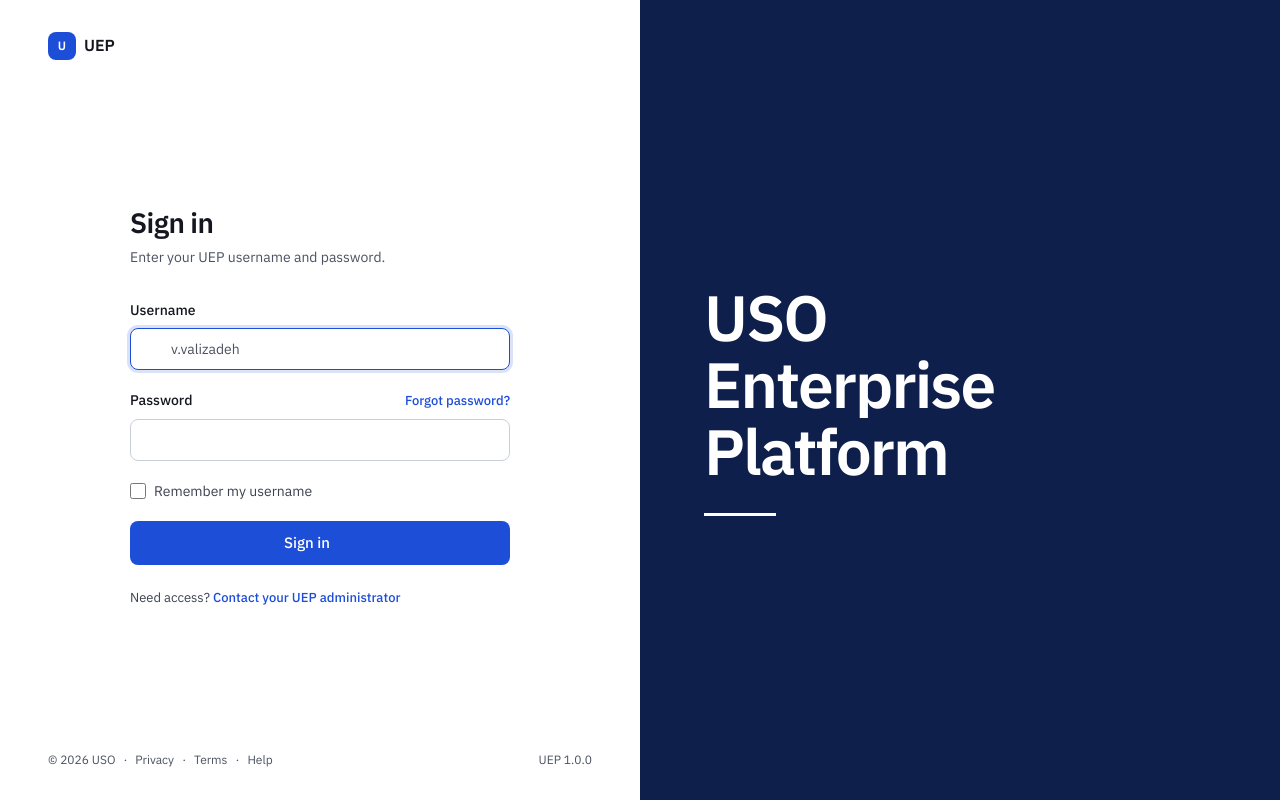
Test case: refusals › gives one generic message for wrong credentials and clears the password
Type "sara" into the field labelled "Username". click: (320, 349)
box: [130, 328, 510, 370]
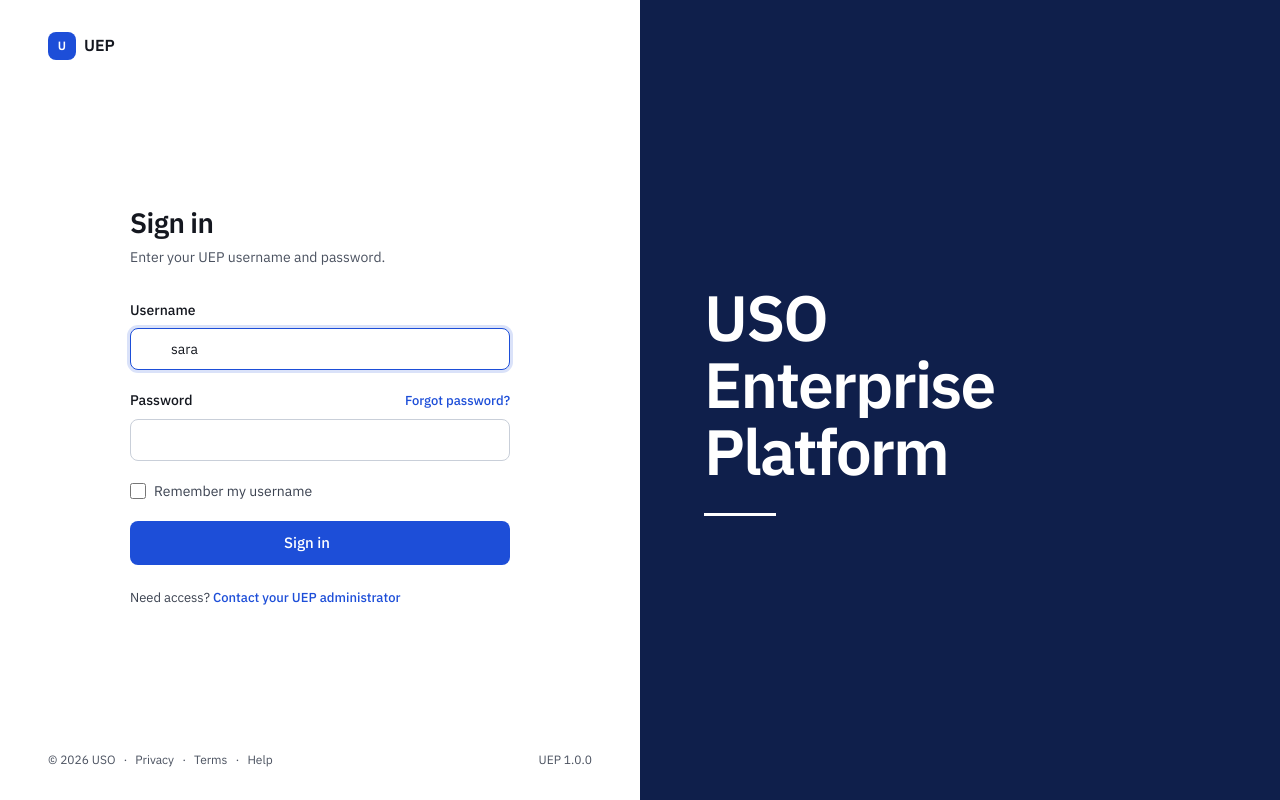
Type "pw" into the password field labelled "Password". click: (320, 440)
box: [130, 419, 510, 461]
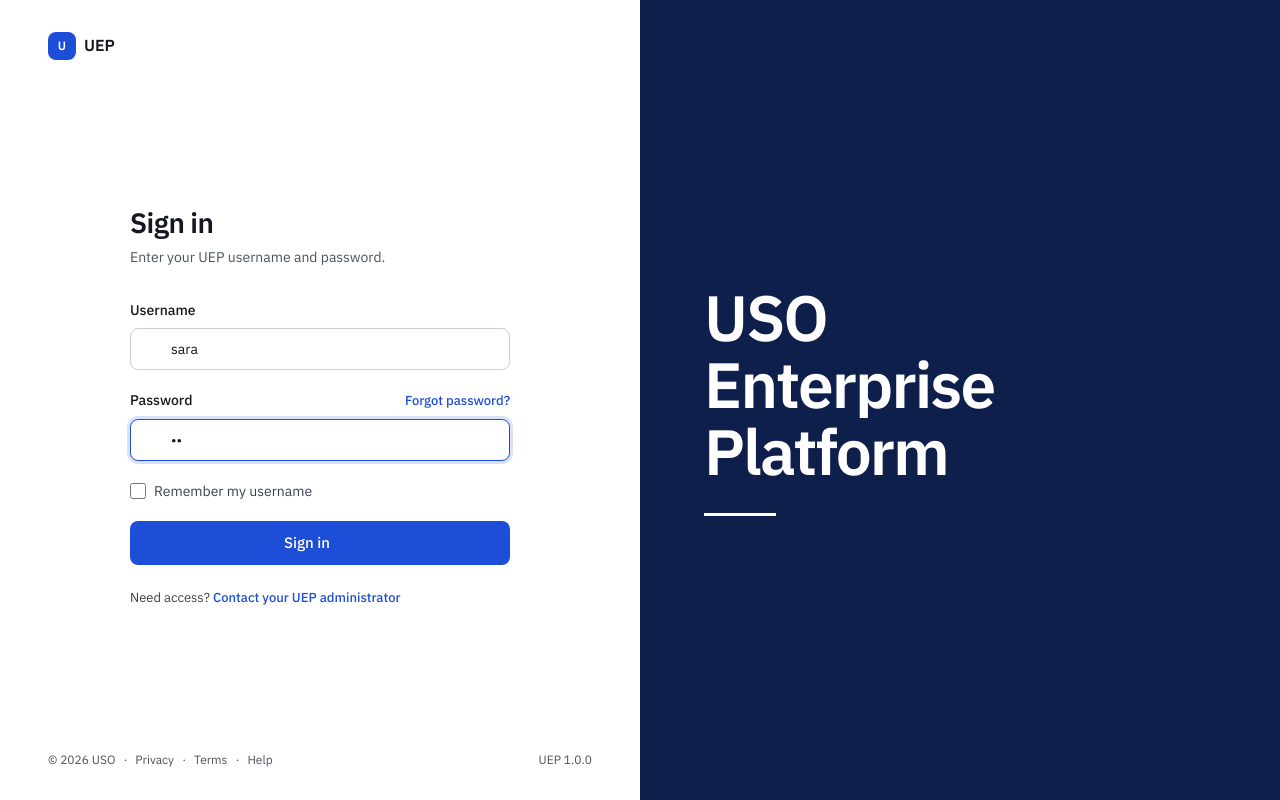
Click the button "Sign in". click: (320, 543)
box: [130, 521, 510, 565]
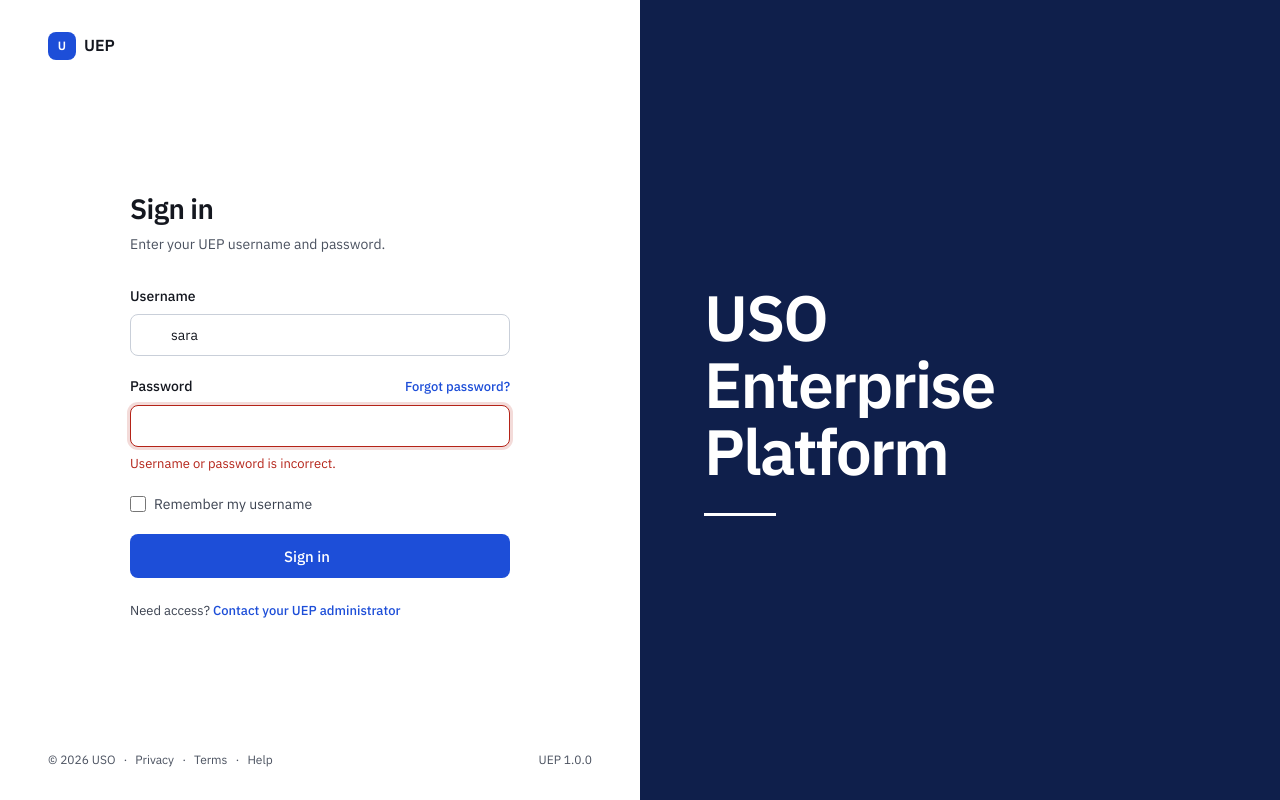
Check: the message reads "Username or password is incorrect.", box [130, 455, 336, 472]
Check: the password field labelled "Password" is empty, box [130, 405, 510, 447]
